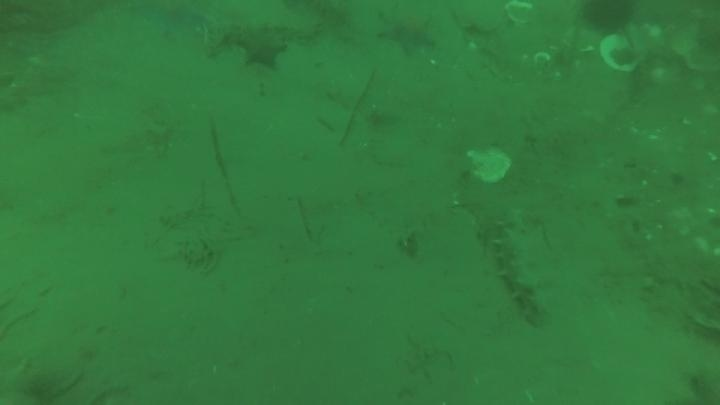echinus: (577, 1, 639, 37)
holothurian: (491, 208, 551, 326)
scallop: (448, 1, 513, 36)
starfish: (375, 10, 440, 58), (234, 29, 289, 73)
